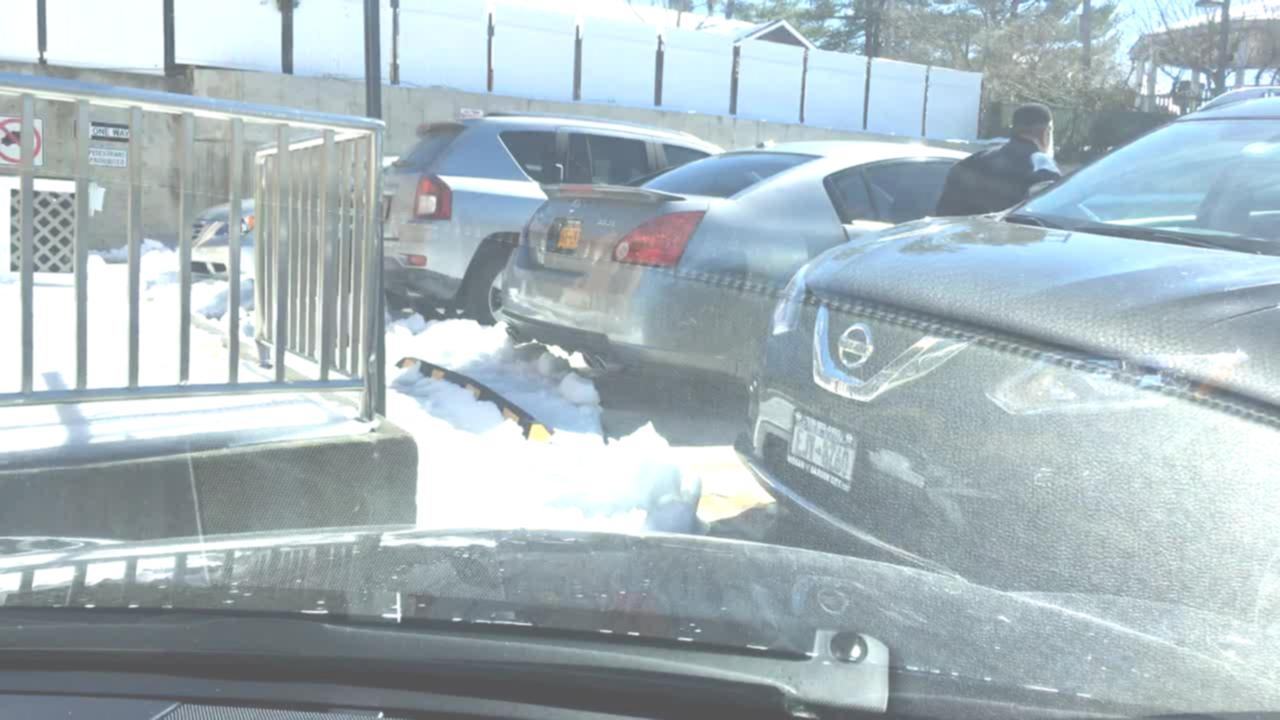Nissan: (832, 317, 879, 382)
